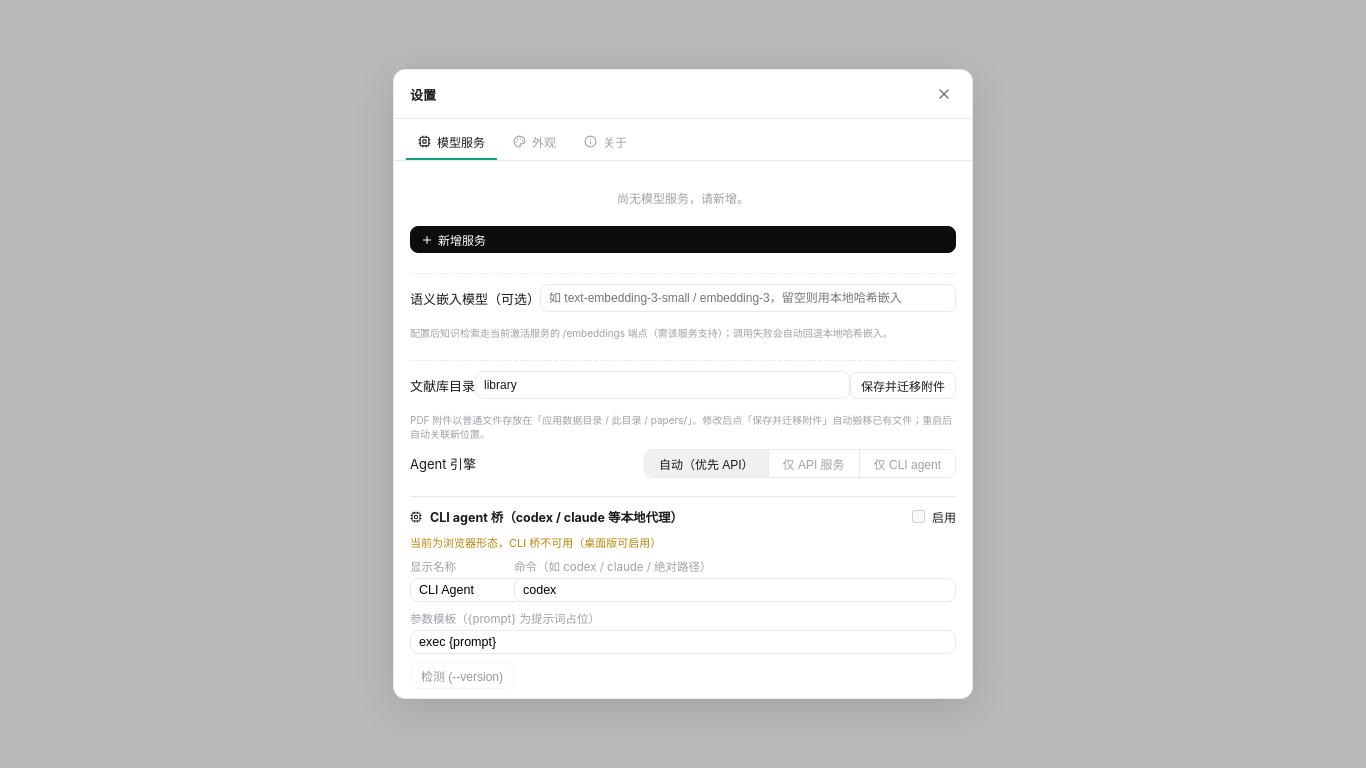
SettingsDialog · 快速预设 › 切「自定义…」不覆盖已填内容；自建预设（空 baseUrl）不清空名称/模型建议
Click the button "新增服务" at (462, 241), box [410,226,956,253]
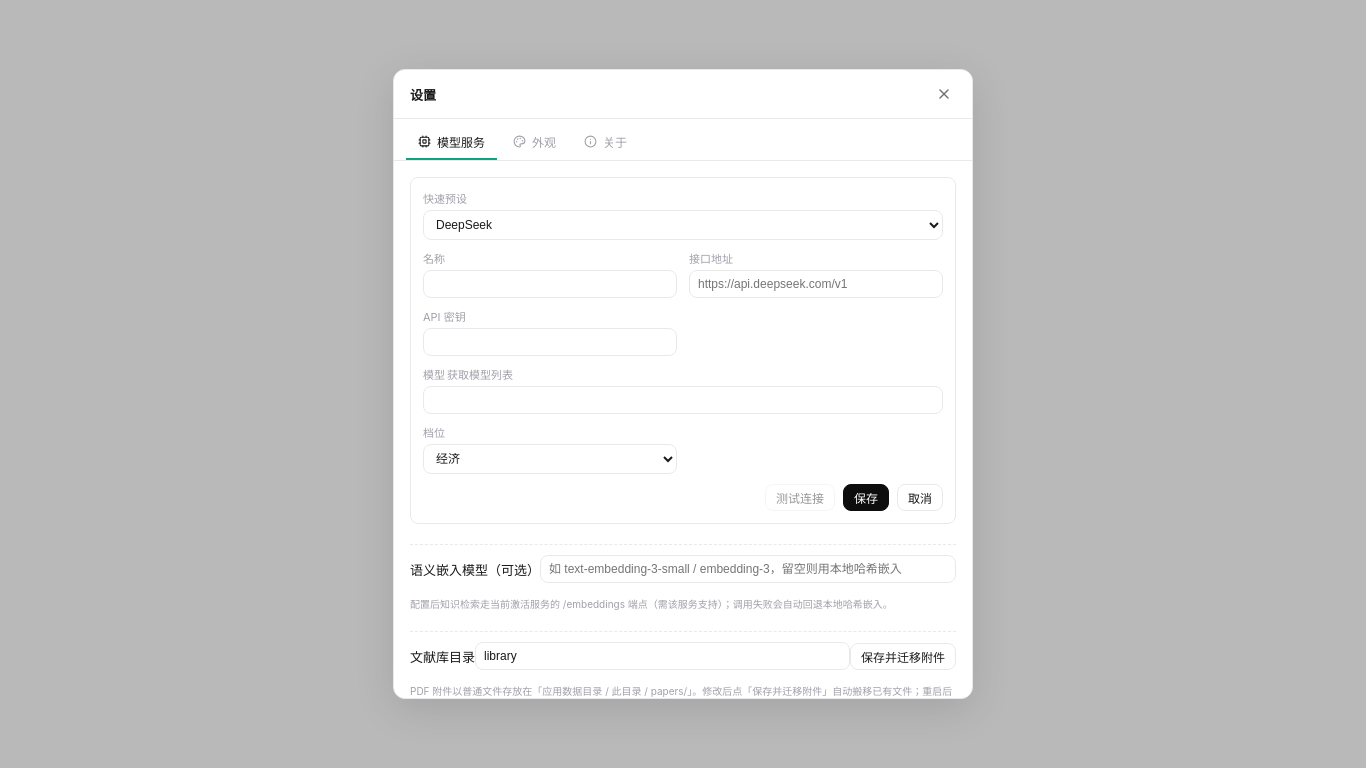
Select "DeepSeek" in the dropdown labelled "快速预设" at (683, 225), box [423,210,943,240]
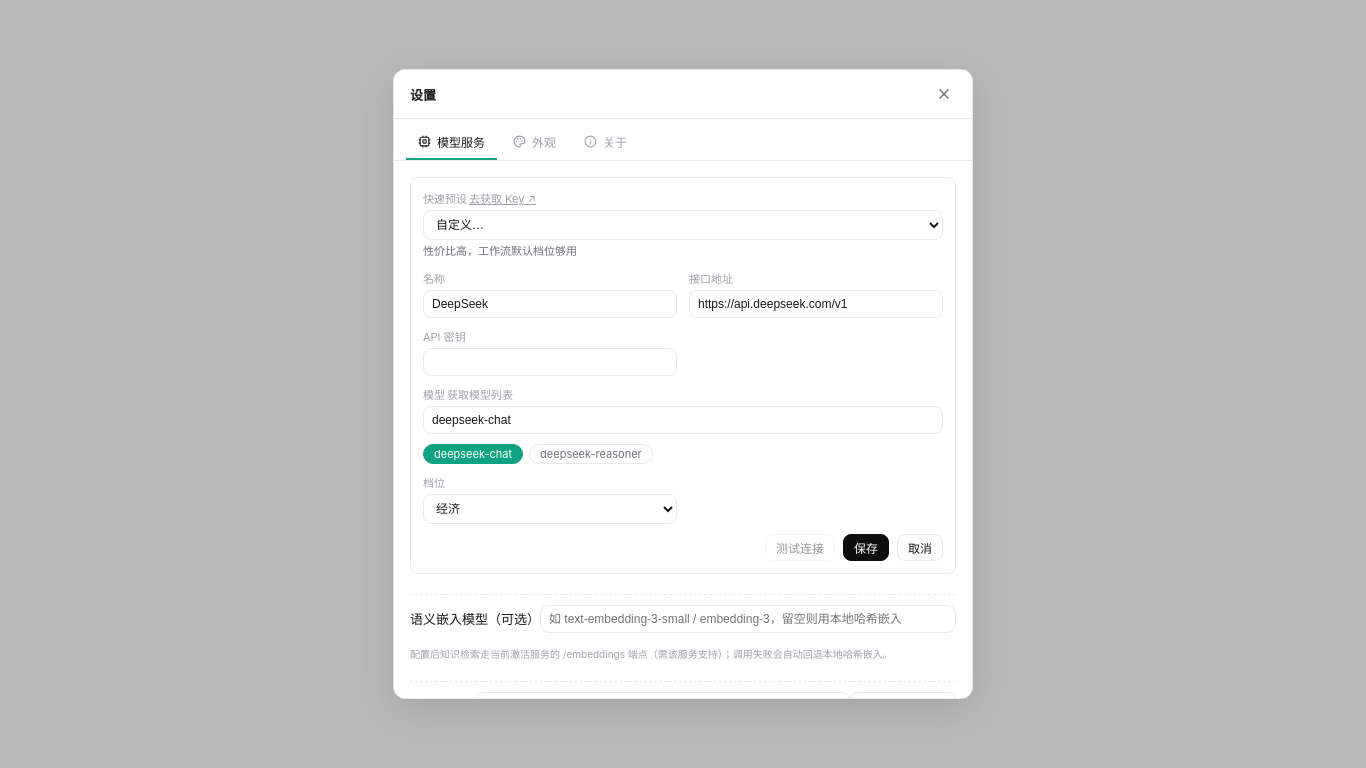
Select "自定义…" in the dropdown labelled "快速预设 去获取 Key ↗ 性价比高，工作流默认档位够用" at (683, 225), box [423,210,943,240]
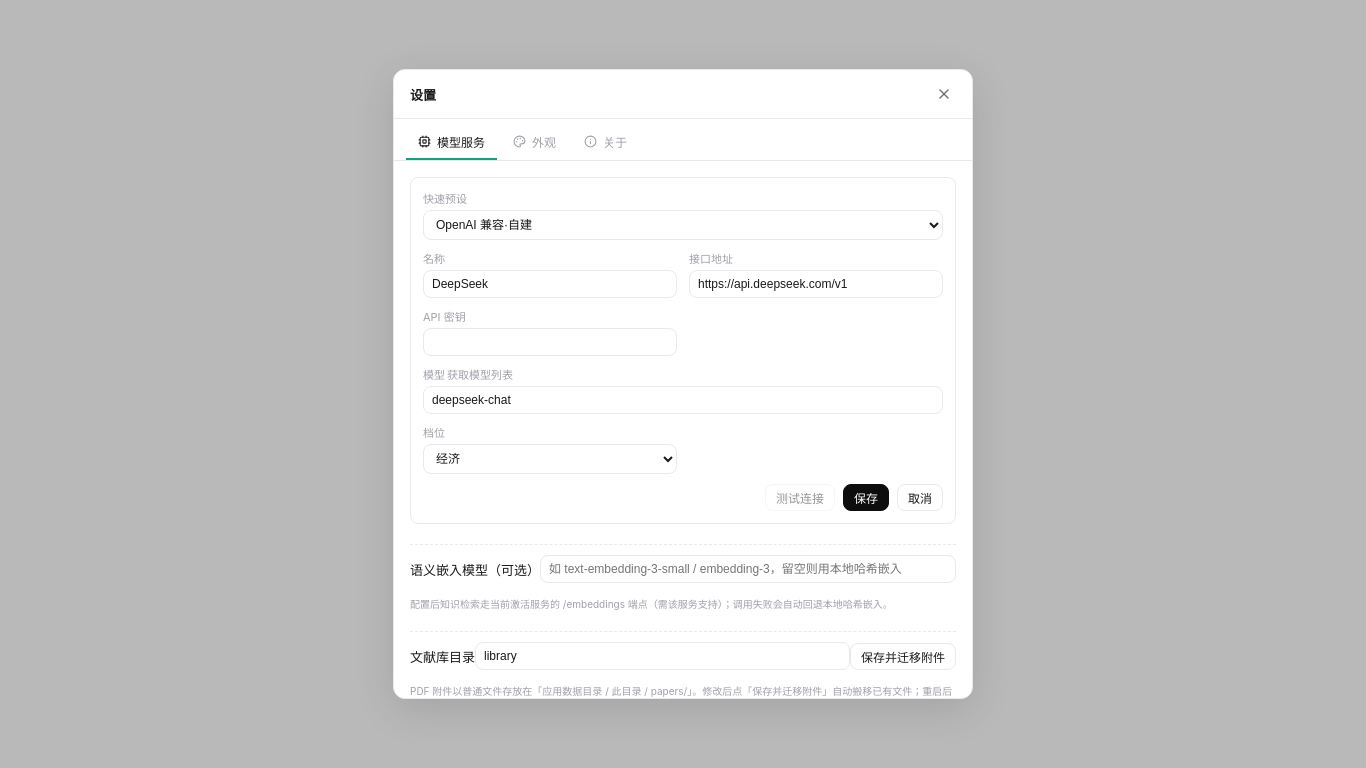
expect the field with class "sf-input" holds "https://api.deepseek.com/v1": met, box [689,270,943,298]
Select "OpenAI 兼容·自建" in the dropdown labelled "快速预设" at (683, 225), box [423,210,943,240]
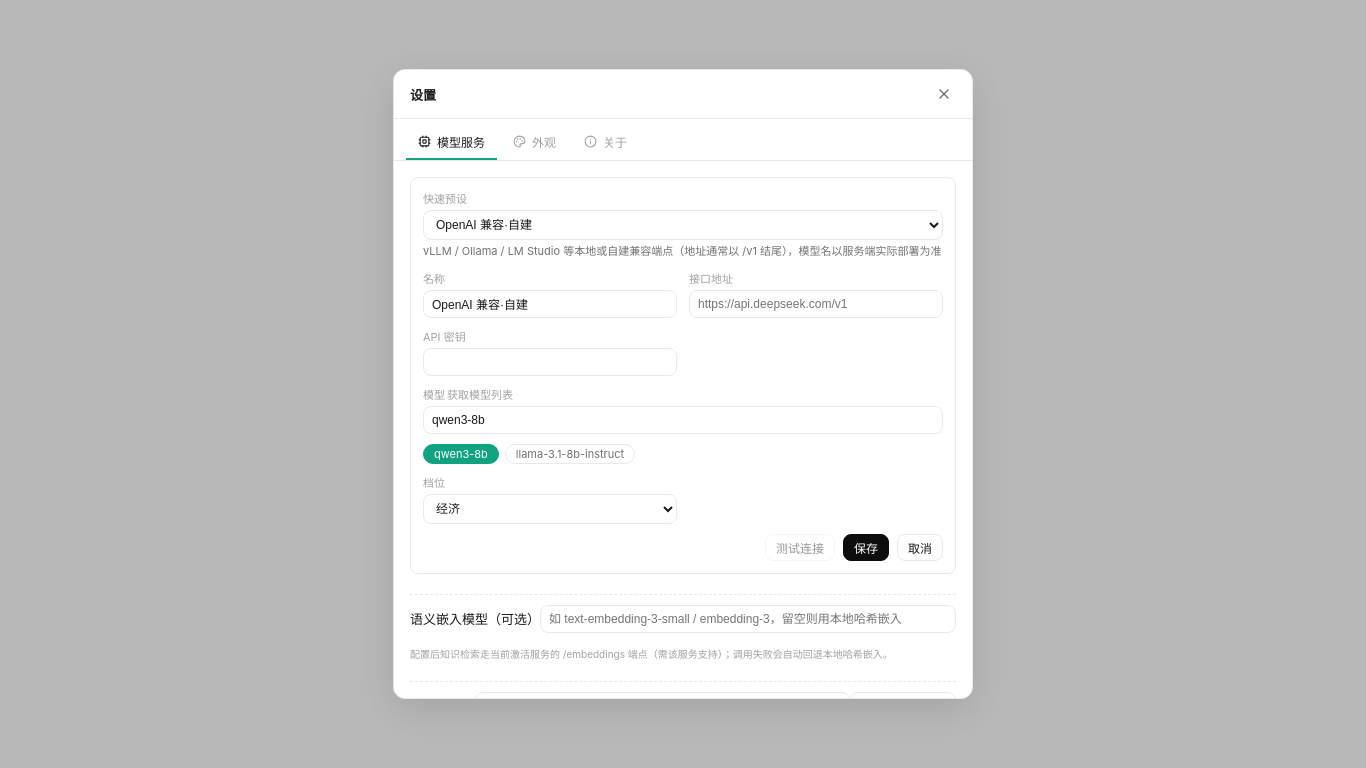
expect the field with class "sf-input" holds "OpenAI 兼容·自建": met, box [423,290,677,318]
expect the field with class "sf-input" is empty: met, box [689,290,943,318]
expect the field with class "sf-input" below "API 密钥" holds "qwen3-8b": met, box [423,406,943,434]
